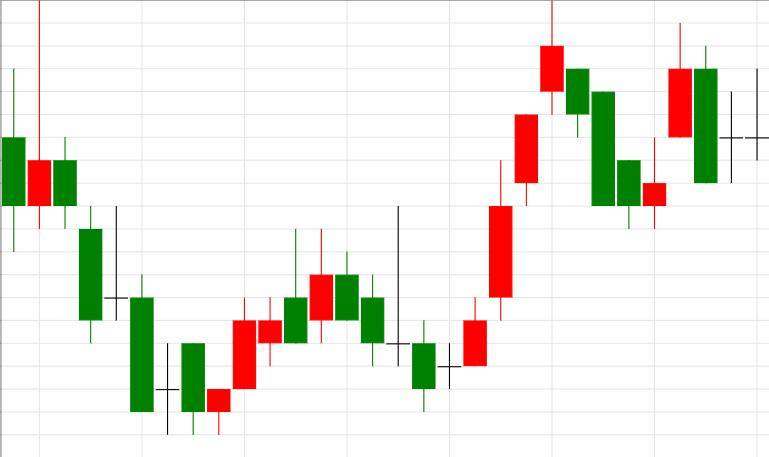three_white_soldiers_rise: (336, 115, 538, 412)
